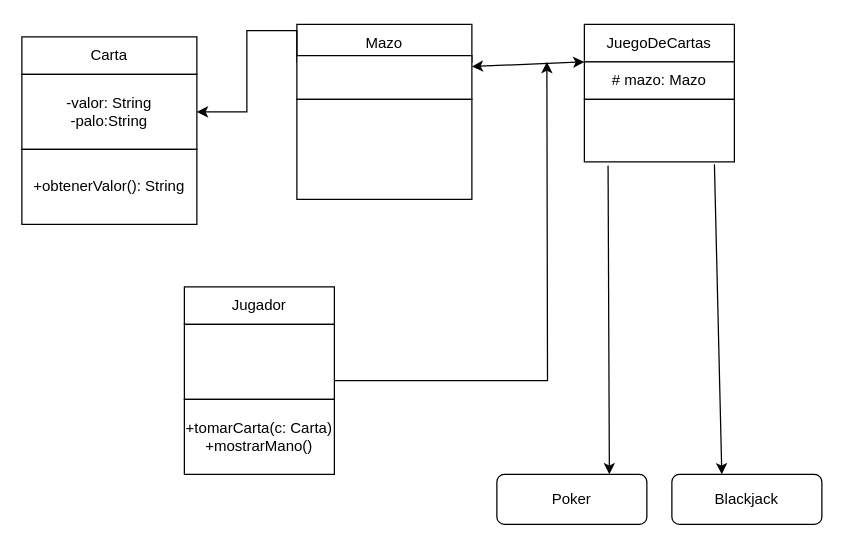
Image size: 844x546. Some labels were removed from this diagram. The box of each missing label's shape, as (x1, y1, x2, y2) in pixels:
+ barajear() + repartirCarta(): Carta: (296, 98, 472, 199)
+ iniciarJuego() + repartirCartas: (583, 98, 734, 162)
+cartas: List<Carta>: (296, 54, 472, 99)
-nombre: String -mano: List<Carta>: (183, 323, 334, 399)
